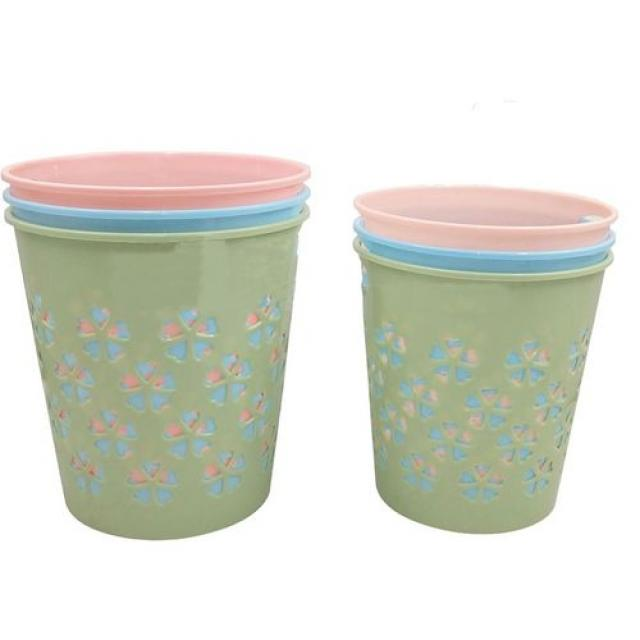Dustbin: (1, 146, 315, 544), (349, 180, 621, 538)
